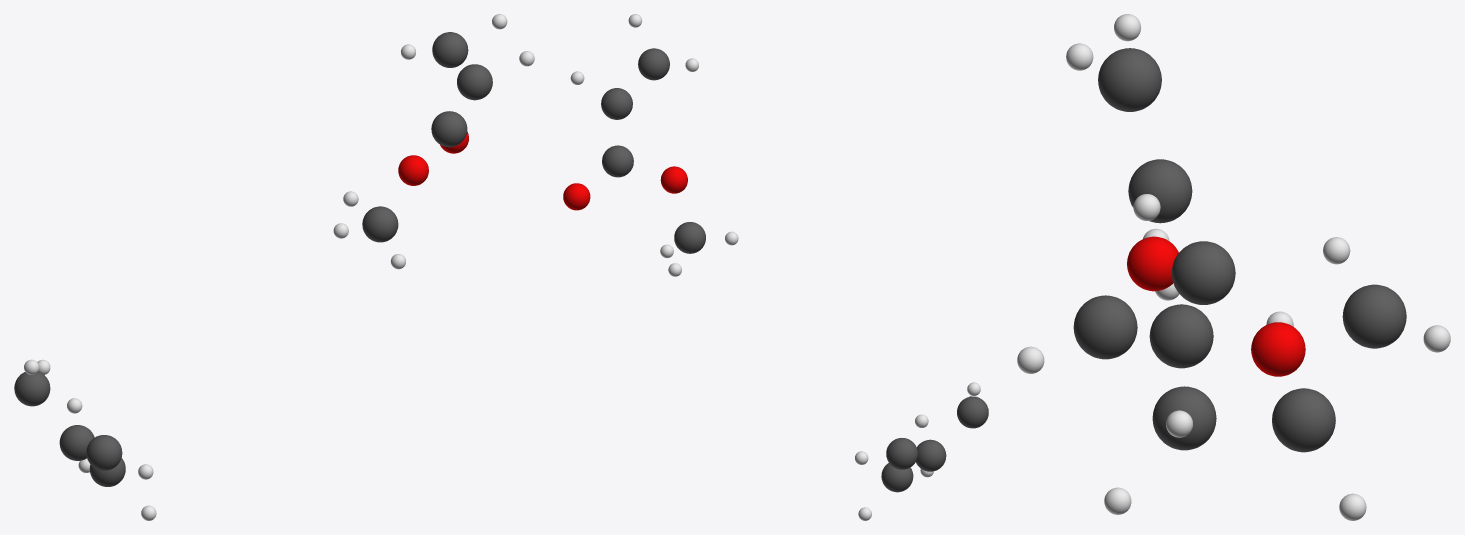
File: butadiene_acrylate_DA_cyclohexenecarboxylate_complete.fbx
3 renders of one model, left to right at view 1: azimuth 30°, elevation 25°; view 2: azimuth 150°, elevation 25°; view 3: azimuth 270°, elevation 25°, orthographic. The views are drawn at different scales.
Parts seen in each view (by area): view 1: C16, C19, C01, C02, C03, C06, C05, O18, C04; view 2: C03, C16, C02, C19, C06, C01, C04, C05, O17, O18; view 3: C19, C06, C03, C02, C05, C16, C01, C04, O17, O18, H10, H11 (+7 smaller).
Boxes of the visible parts, x1,y1,x2,y2 form: C16: (431,111,467,147); C19: (362,206,398,242); C01: (457,64,492,100); C02: (432,32,468,67); C03: (86,435,122,470); C06: (14,371,50,406); C05: (59,425,94,460); O18: (398,155,428,185); C04: (89,458,125,486); C03: (957,396,988,428); C16: (602,145,633,177); C02: (638,48,669,80); C19: (674,222,705,253); C06: (886,438,917,469); C01: (601,88,632,119); C04: (916,439,946,471); C05: (881,463,913,492); O17: (563,183,590,210); O18: (660,166,687,193); C19: (1149,304,1213,368); C06: (1342,284,1406,348); C03: (1073,295,1137,359); C02: (1098,48,1161,111); C05: (1272,388,1335,452); C16: (1171,241,1235,304); C01: (1128,159,1192,223); C04: (1152,386,1216,450); O17: (1251,322,1305,376); O18: (1127,236,1178,291); H10: (1104,487,1131,514); H11: (1339,493,1366,520).
Size of the model in its own units: 1111 by 990 by 508.
